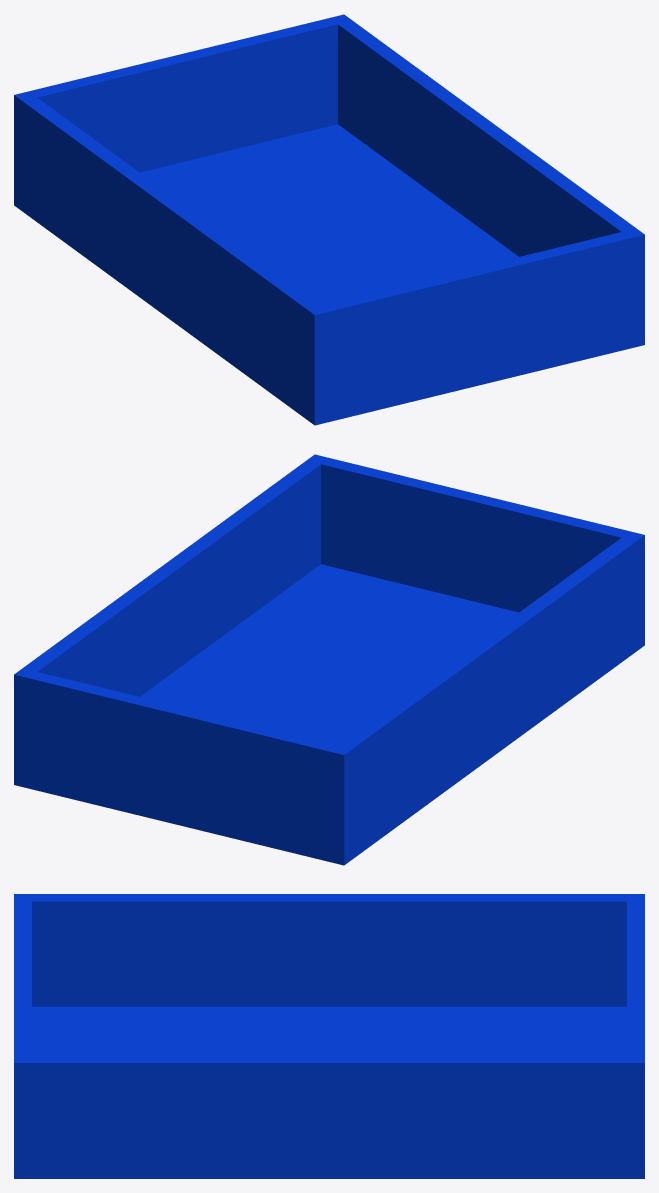
The model's file is TruckLadeflaeche.fbx.
The picture shows the model from 3 angles, top to bottom: view 1: azimuth 30°, elevation 25°; view 2: azimuth 150°, elevation 25°; view 3: azimuth 270°, elevation 25°; orthographic projection. The views are drawn at different scales.
Parts seen in each view (by area): view 1: TruckLadefläche; view 2: TruckLadefläche; view 3: TruckLadefläche.
Part boxes in pixels (box(x1,y1,x2,y2)): TruckLadefläche: box(14, 14, 644, 425); TruckLadefläche: box(14, 454, 644, 865); TruckLadefläche: box(14, 894, 644, 1178).
Bounding box in the file's own units: 233 × 87.78 × 367.
